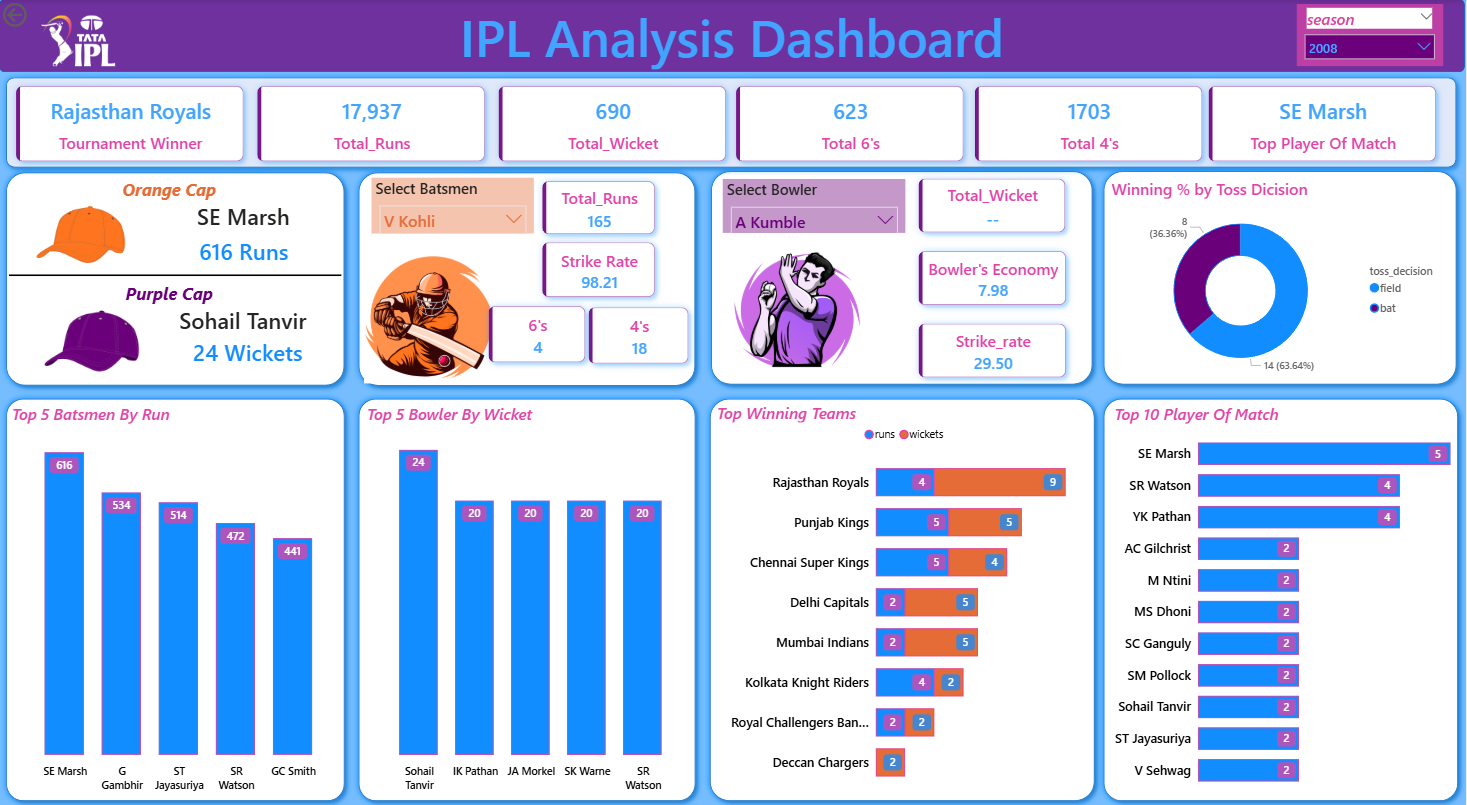

The dashboard page shown, as its layout file describes it:
{"tool":"powerbi","page":{"name":"Page 1","canvas":[1850,1020],"ordinal":0},"visuals":[{"type":"shape","box":[0,0,1849.3,92.3],"z":0},{"type":"shape","box":[0,209.7,444.7,287],"z":1000},{"type":"shape","box":[888.7,208.5,499.1,287.1],"z":2000},{"type":"shape","box":[444.4,210.2,442.7,287.1],"z":3000},{"type":"shape","box":[888,495.3,503.4,525.5],"z":4000},{"type":"shape","box":[0,90.6,1847.6,131.6],"z":5000},{"type":"slicer","fields":{"Values":["clean_matches.season"]},"box":[1637.3,6.8,184.6,78.6],"z":6000},{"type":"cardVisual","fields":{"Data":["Sum(clean_deliveries.is_wicket)"]},"box":[613,93,321.2,129.3],"z":7000},{"type":"cardVisual","fields":{"Data":["clean_matches.Tournament Winner"]},"box":[5.1,92.3,321.3,129.9],"z":8000},{"type":"cardVisual","fields":{"Data":["Sum(clean_deliveries.total_runs)"]},"box":[309.1,92.9,321.2,129.3],"z":9000},{"type":"cardVisual","fields":{"Data":["CountNonNull(clean_deliveries.batsman_runs)"]},"box":[913,93,321.2,129.3],"z":10000},{"type":"cardVisual","fields":{"Data":["CountNonNull(clean_deliveries.batsman_runs)"]},"box":[1214.1,92.9,321.2,129.3],"z":11000},{"type":"cardVisual","fields":{"Data":["Min(clean_matches.player_of_match)"]},"box":[1509.2,92.3,321.3,129.9],"z":12000},{"type":"shape","box":[1384.4,208.5,463.2,287.1],"z":13000},{"type":"shape","box":[0,495.3,445,525.5],"z":14000},{"type":"donutChart","title":"Winning % by Toss Dicision","fields":{"Y":["CountNonNull(clean_matches.winner)"],"Category":["clean_matches.toss_decision"]},"box":[1399.8,222.2,430.7,261.5],"z":15000},{"type":"columnChart","title":"Top 5 Batsmen By Run","fields":{"Category":["clean_deliveries.batter"],"Y":["Sum(clean_deliveries.batsman_runs)"]},"box":[10.3,509.3,420.4,499.1],"z":16000},{"type":"shape","box":[445,495.3,443,525.5],"z":17000},{"type":"columnChart","title":"Top 5 Bowler By Wicket","fields":{"Category":["clean_deliveries.bowler"],"Y":["Sum(clean_deliveries.is_wicket)"]},"box":[459.1,509.4,412.8,499.3],"z":18000},{"type":"barChart","title":"Top Winning Teams","fields":{"Category":["clean_matches.winner"],"Y":["CountNonNull(clean_matches.winner)"],"Series":["clean_matches.result"]},"box":[900.3,507.6,487,499],"z":19000},{"type":"shape","box":[1385.3,495.3,465.1,525.5],"z":20000},{"type":"barChart","title":"Top 10 Player Of Match","fields":{"Category":["clean_matches.player_of_match"],"Y":["CountNonNull(clean_matches.player_of_match)"]},"box":[1401.4,509.4,449,499.3],"z":21000},{"type":"card","fields":{"Values":["Min(clean_deliveries.batter)"]},"box":[192.4,253.9,232,43.6],"z":22000},{"type":"shape","box":[12.6,326.4,419.5,44.2],"z":23000},{"type":"card","fields":{"Values":["clean_deliveries.Orange Cap Holder Runs"]},"box":[194.4,297.5,230.1,43.6],"z":24000},{"type":"card","fields":{"Values":["Min(clean_deliveries.bowler)"]},"box":[190.4,384.8,234,43.6],"z":25000},{"type":"card","fields":{"Values":["clean_deliveries.Purple Cap Wicket Holder"]},"box":[196.3,424.4,234,45.6],"z":26000},{"type":"actionButton","box":[0,0,100,40],"z":27000},{"type":"slicer","title":"Select Batsmen","fields":{"Values":["clean_deliveries.batter"]},"box":[470,225.6,205.1,70.1],"z":28000},{"type":"cardVisual","fields":{"Data":["Sum(clean_deliveries.batsman_runs)"]},"box":[668.4,212.2,176.5,101.1],"z":29000},{"type":"cardVisual","fields":{"Data":["CountNonNull(clean_deliveries.batsman_runs)"]},"box":[727,372.2,160.9,105.7],"z":30000},{"type":"cardVisual","fields":{"Data":["clean_deliveries.Batsmen Strike Rate"]},"box":[668.4,289.6,176.5,103.1],"z":31000},{"type":"slicer","title":"Select Bowler","fields":{"Values":["clean_deliveries.bowler"]},"box":[912.7,227.3,230.7,68.4],"z":32000},{"type":"cardVisual","fields":{"Data":["Sum(clean_deliveries.is_wicket)"]},"box":[1143.8,209.2,219.5,102.9],"z":33000},{"type":"cardVisual","fields":{"Data":["clean_deliveries.Bowler_Economy"]},"box":[1143.4,300.8,220.5,102.5],"z":34000},{"type":"cardVisual","fields":{"Data":["clean_deliveries.Strike_rate"]},"box":[1143.4,393.1,220.5,102.5],"z":35000},{"type":"image","box":[455.8,312.2,175,179.8],"z":36000},{"type":"cardVisual","fields":{"Data":["CountNonNull(clean_deliveries.batsman_runs)"]},"box":[600.8,370.6,156.1,105.7],"z":37000},{"type":"image","box":[913.1,298.1,190.8,189.2],"z":38000},{"type":"image","box":[14.2,220.8,179.8,126.2],"z":39000},{"type":"textbox","box":[28.2,221.5,372.5,54.4],"z":40000},{"type":"image","box":[50.5,350.1,135.6,134],"z":41000},{"type":"textbox","box":[28.2,352.4,372.5,54.4],"z":42000},{"type":"image","box":[48.9,0,102.5,105.7],"z":43000}]}

Visuals, with their boxes in screenshot pixels (x1, y1, x2, y2), scaled from the page's 1850x1020 canvas onto the 1467x805 screenshot:
shape: box=[0, 0, 1466, 73]
shape: box=[0, 165, 353, 392]
shape: box=[705, 165, 1100, 391]
shape: box=[352, 166, 703, 392]
shape: box=[704, 391, 1103, 804]
shape: box=[0, 72, 1465, 175]
slicer - clean_matches.season: box=[1298, 5, 1445, 67]
cardVisual - Sum(clean_deliveries.is_wicket): box=[486, 73, 741, 175]
cardVisual - clean_matches.Tournament Winner: box=[4, 73, 259, 175]
cardVisual - Sum(clean_deliveries.total_runs): box=[245, 73, 500, 175]
cardVisual - CountNonNull(clean_deliveries.batsman_runs): box=[724, 73, 979, 175]
cardVisual - CountNonNull(clean_deliveries.batsman_runs): box=[963, 73, 1217, 175]
cardVisual - Min(clean_matches.player_of_match): box=[1197, 73, 1452, 175]
shape: box=[1098, 165, 1465, 391]
shape: box=[0, 391, 353, 804]
"Winning % by Toss Dicision" donutChart: box=[1110, 175, 1452, 382]
"Top 5 Batsmen By Run" columnChart: box=[8, 402, 342, 796]
shape: box=[353, 391, 704, 804]
"Top 5 Bowler By Wicket" columnChart: box=[364, 402, 691, 796]
"Top Winning Teams" barChart: box=[714, 401, 1100, 794]
shape: box=[1099, 391, 1466, 804]
"Top 10 Player Of Match" barChart: box=[1111, 402, 1466, 796]
card - Min(clean_deliveries.batter): box=[153, 200, 337, 235]
shape: box=[10, 258, 343, 292]
card - clean_deliveries.Orange Cap Holder Runs: box=[154, 235, 337, 269]
card - Min(clean_deliveries.bowler): box=[151, 304, 337, 338]
card - clean_deliveries.Purple Cap Wicket Holder: box=[156, 335, 341, 371]
actionButton: box=[0, 0, 79, 32]
"Select Batsmen" slicer: box=[373, 178, 535, 233]
cardVisual - Sum(clean_deliveries.batsman_runs): box=[530, 167, 670, 247]
cardVisual - CountNonNull(clean_deliveries.batsman_runs): box=[576, 294, 704, 377]
cardVisual - clean_deliveries.Batsmen Strike Rate: box=[530, 229, 670, 310]
"Select Bowler" slicer: box=[724, 179, 907, 233]
cardVisual - Sum(clean_deliveries.is_wicket): box=[907, 165, 1081, 246]
cardVisual - clean_deliveries.Bowler_Economy: box=[907, 237, 1082, 318]
cardVisual - clean_deliveries.Strike_rate: box=[907, 310, 1082, 391]
image: box=[361, 246, 500, 388]
cardVisual - CountNonNull(clean_deliveries.batsman_runs): box=[476, 292, 600, 376]
image: box=[724, 235, 875, 385]
image: box=[11, 174, 154, 274]
textbox: box=[22, 175, 318, 218]
image: box=[40, 276, 148, 382]
textbox: box=[22, 278, 318, 321]
image: box=[39, 0, 120, 83]
